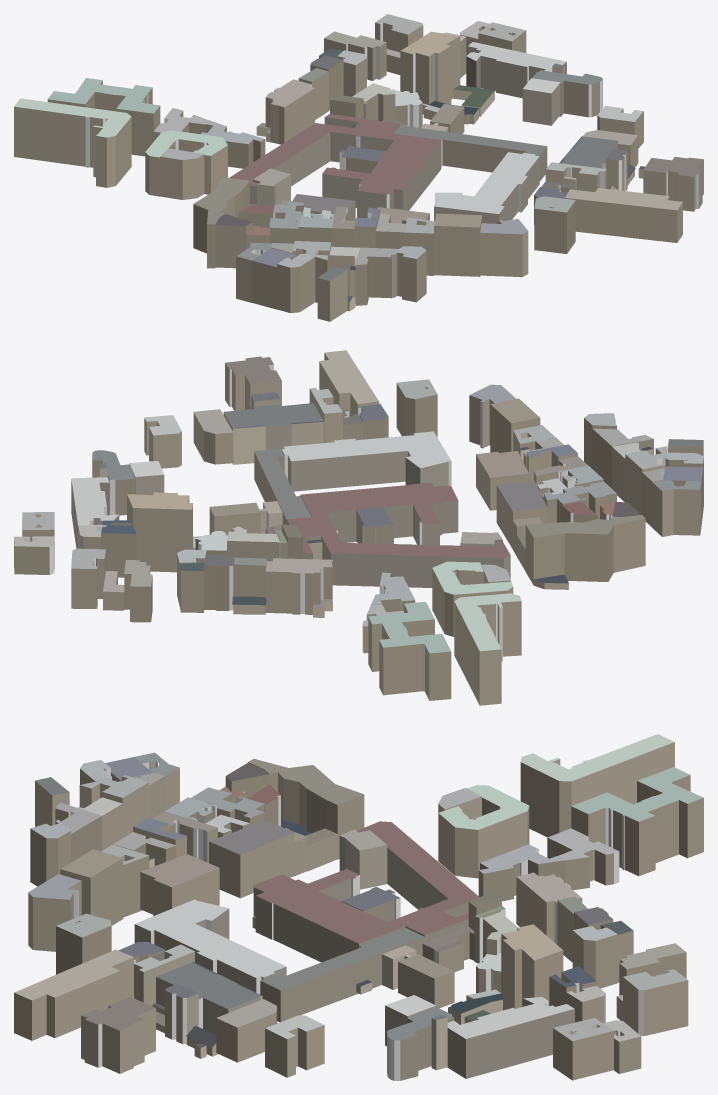
The picture shows the model from 3 angles, top to bottom: view 1: azimuth 30°, elevation 25°; view 2: azimuth 150°, elevation 25°; view 3: azimuth 270°, elevation 25°; orthographic projection. The views are drawn at different scales.
Visible parts, largest first — view 1: tuile; view 2: tuile; view 3: tuile.
Part boxes in pixels (x1,y1,x2,y2): tuile: (14, 14, 703, 321); tuile: (14, 350, 703, 705); tuile: (14, 734, 703, 1080).
Size of the model in its own units: 285 by 34.67 by 285.
